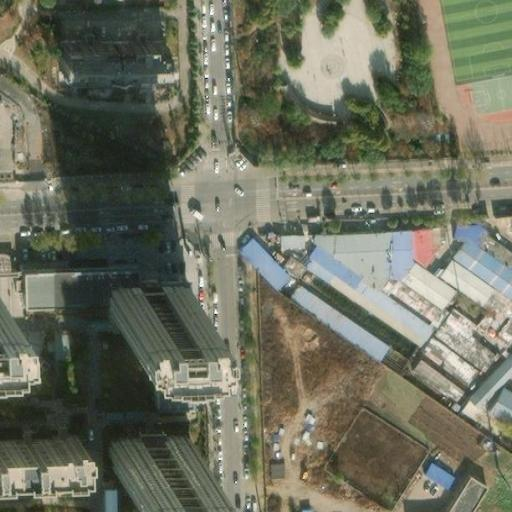building: (292, 225, 449, 340), (229, 229, 324, 313), (11, 258, 155, 298), (429, 250, 508, 317), (93, 267, 177, 316), (101, 433, 185, 481), (50, 32, 158, 69), (426, 302, 488, 366), (457, 335, 512, 403), (316, 301, 381, 351), (402, 472, 482, 512), (0, 422, 75, 460), (414, 331, 470, 379), (367, 224, 433, 259), (405, 355, 455, 396), (470, 297, 512, 339), (477, 382, 512, 431), (414, 459, 447, 487), (276, 250, 306, 277), (260, 227, 294, 242), (444, 221, 472, 236)
